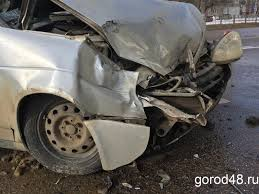car: (13, 3, 227, 157)
